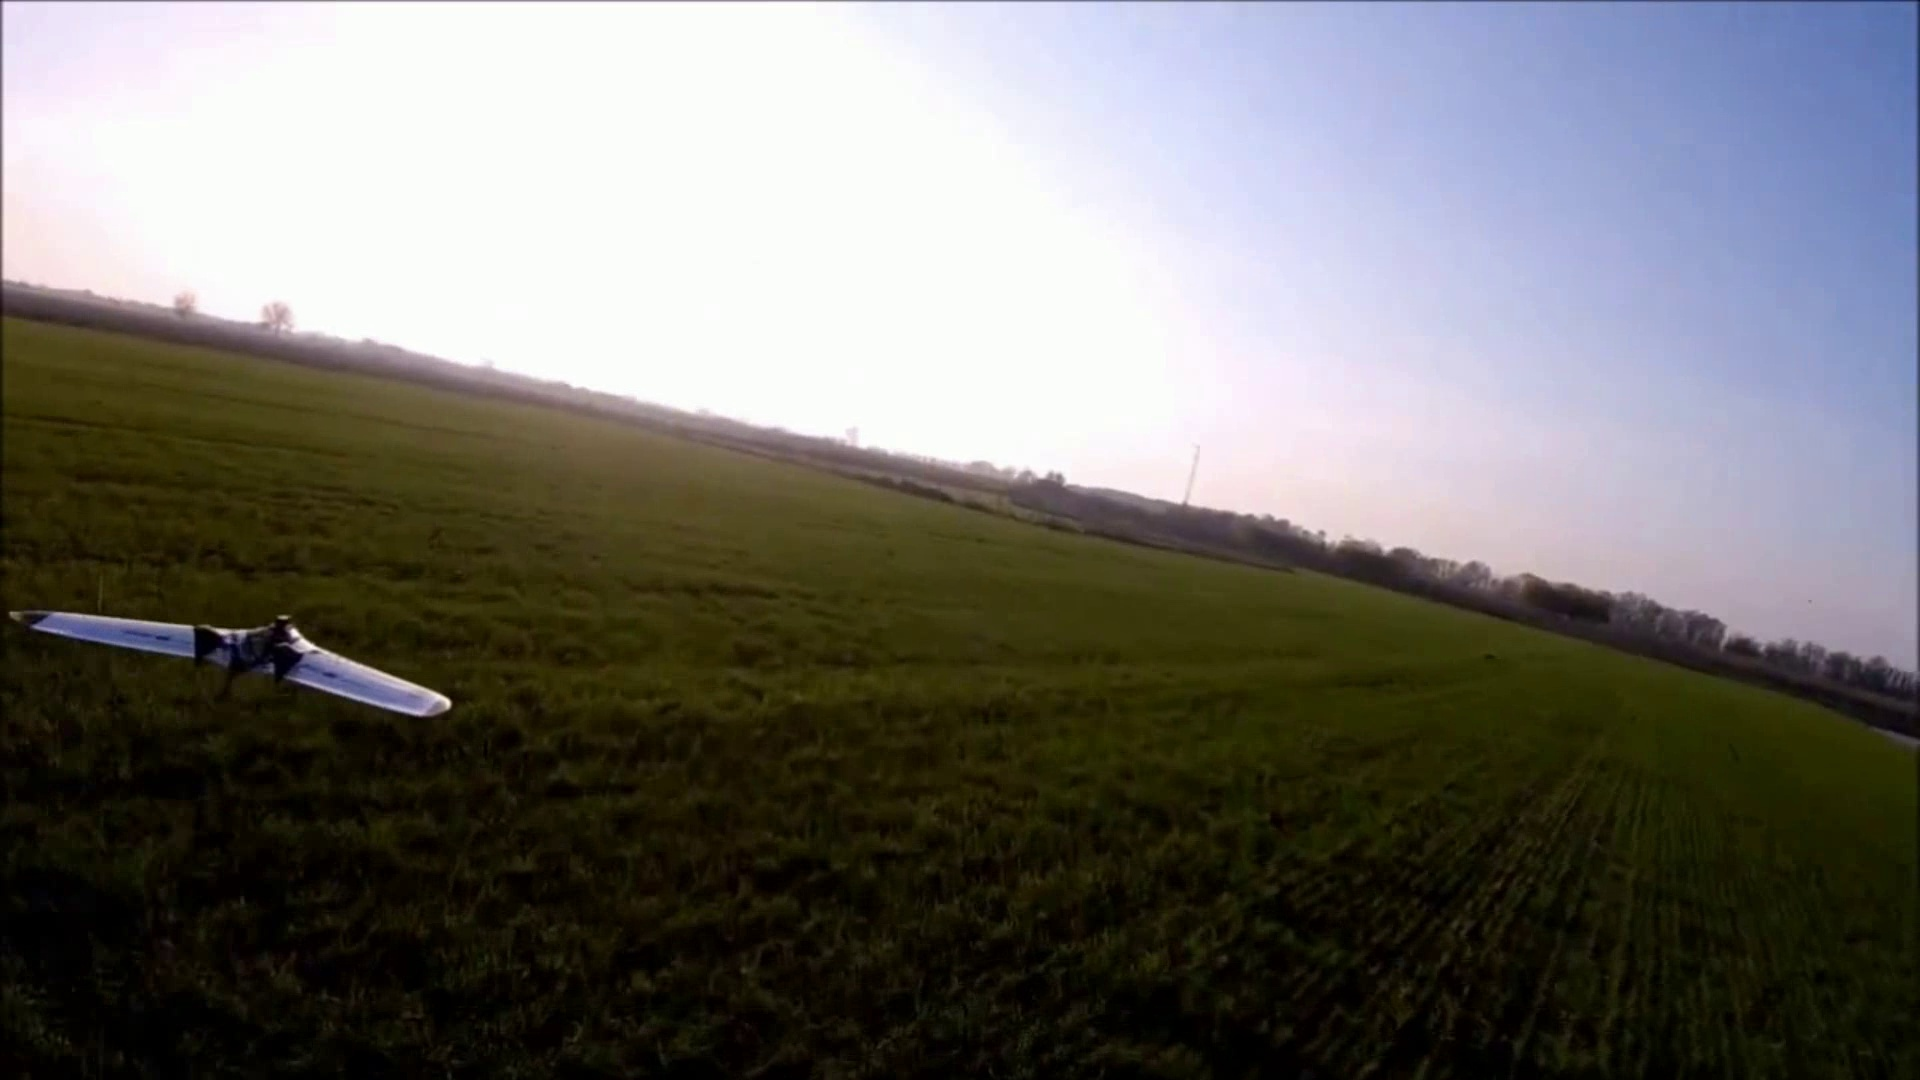airplane: (18, 604, 454, 723)
